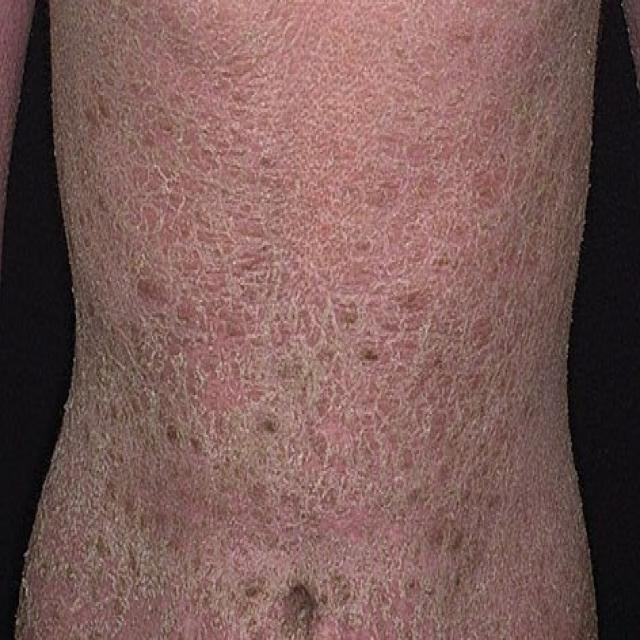Psoriasis Eritrodermica: (16, 0, 598, 638)
